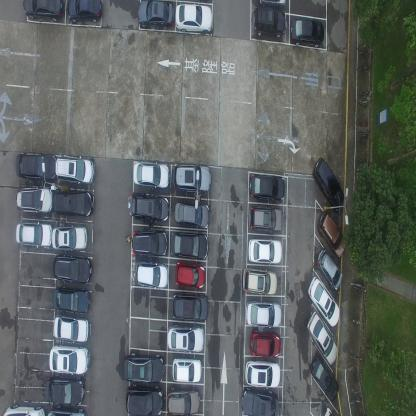car: (308, 274, 340, 329), (306, 312, 338, 366), (312, 156, 344, 209), (316, 209, 346, 259), (310, 354, 339, 402), (123, 351, 164, 384), (127, 192, 169, 224), (172, 162, 212, 195), (47, 345, 89, 376), (316, 247, 343, 294), (52, 155, 94, 185), (171, 291, 209, 324), (126, 383, 164, 415), (243, 266, 278, 300), (166, 324, 204, 355), (14, 152, 56, 180), (174, 200, 210, 232), (52, 190, 93, 218), (175, 3, 212, 34), (132, 160, 170, 190), (170, 230, 208, 260), (52, 256, 91, 285), (46, 377, 85, 406), (130, 230, 168, 259), (252, 5, 286, 37), (245, 300, 281, 330), (14, 220, 52, 248), (290, 15, 324, 46), (245, 359, 280, 389), (249, 172, 285, 201), (248, 205, 284, 234), (137, 0, 174, 28), (241, 388, 279, 415), (52, 287, 88, 315), (15, 187, 52, 214), (166, 386, 200, 415), (52, 316, 88, 343), (134, 264, 169, 291), (51, 225, 87, 251), (249, 238, 282, 266), (22, 0, 64, 22), (175, 260, 205, 290), (172, 355, 202, 384), (67, 0, 103, 23), (250, 331, 281, 357), (2, 404, 46, 415), (47, 407, 86, 415)
